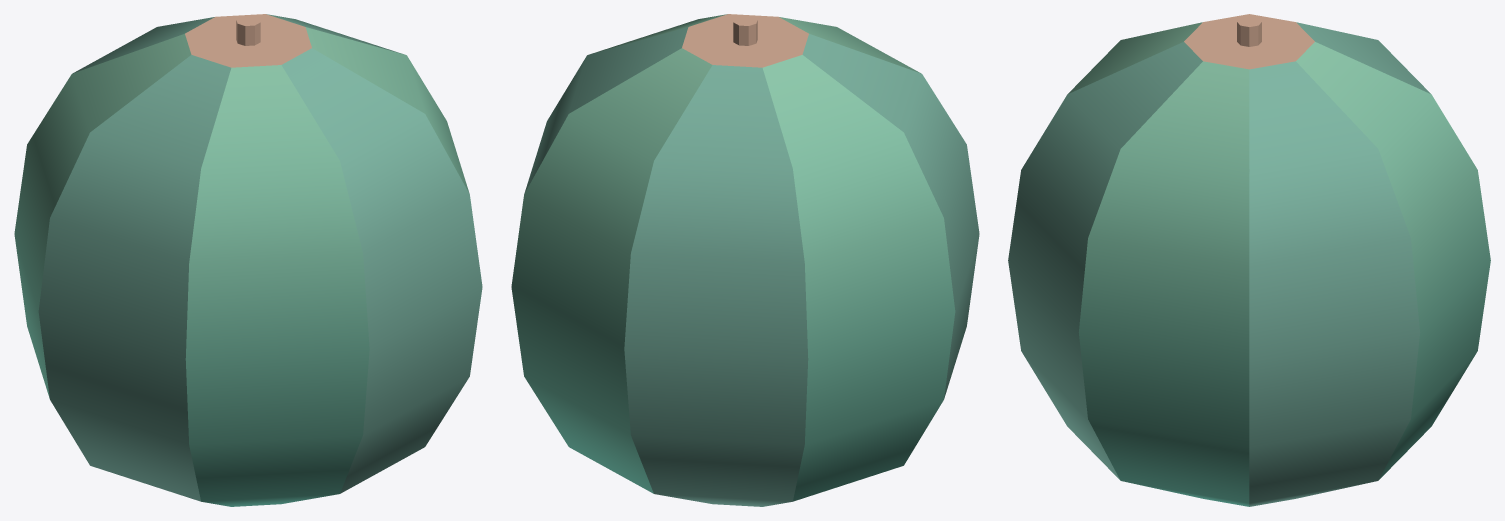
File: watermelon.glb
3 renders of one model, left to right at view 1: azimuth 30°, elevation 25°; view 2: azimuth 150°, elevation 25°; view 3: azimuth 270°, elevation 25°, orthographic.
Parts seen in each view (by area): view 1: watermelon; view 2: watermelon; view 3: watermelon.
Boxes of the visible parts, x1,y1,x2,y2 form: watermelon: [14, 14, 482, 506]; watermelon: [511, 14, 979, 506]; watermelon: [1008, 14, 1490, 506].
Bounding box in the file's own units: 0.4554 × 0.4761 × 0.4554.
